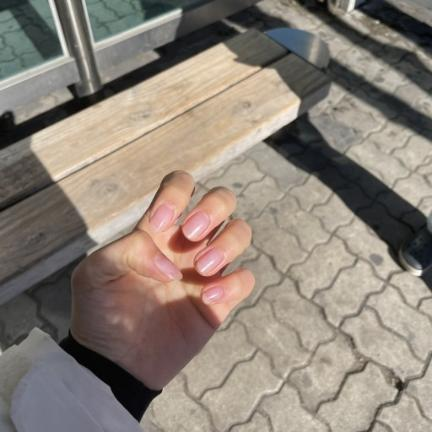Nail: (154, 252, 183, 280), (182, 212, 210, 241), (196, 248, 223, 274), (150, 204, 174, 232), (202, 286, 224, 305)
